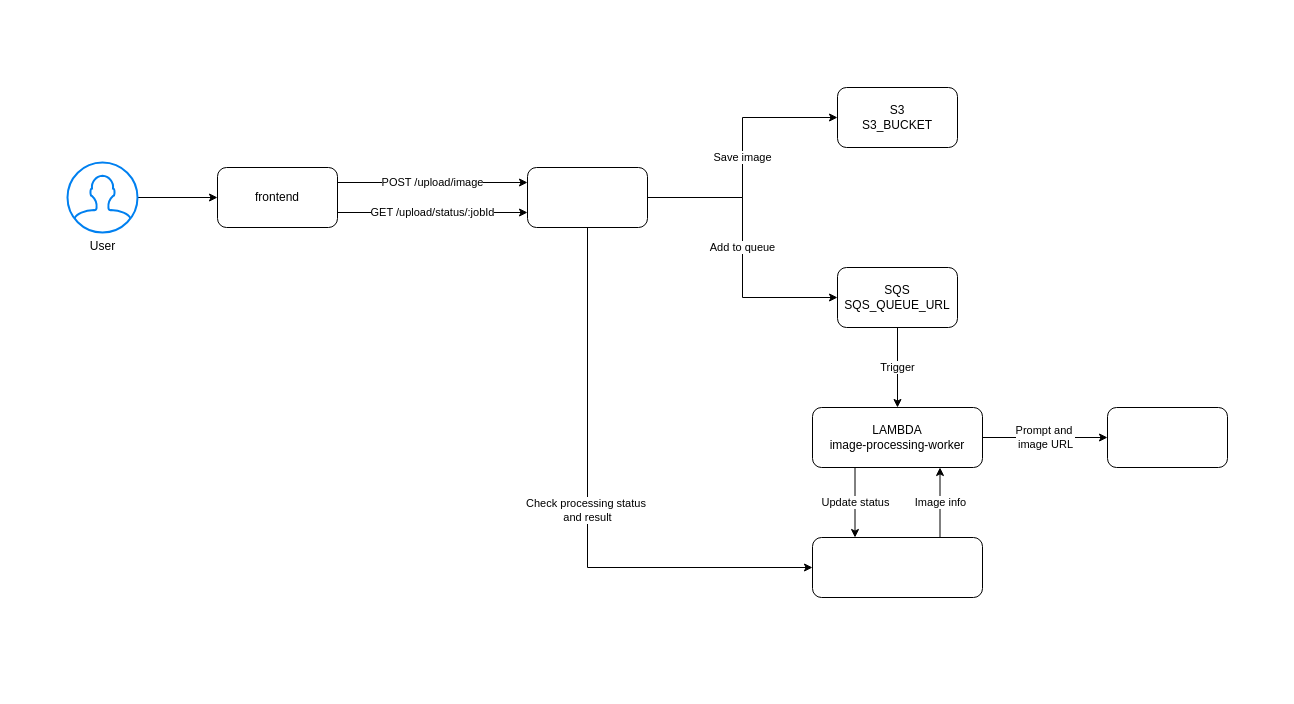
Image size: 1294x704. Some labels were removed from this diagram. Each missing label, with the centre of its shape:
"api" belongs at point (587, 197).
"DynamoDB DYNAMODB_TABLE" belongs at point (897, 567).
"OpenAI API" belongs at point (1167, 437).
